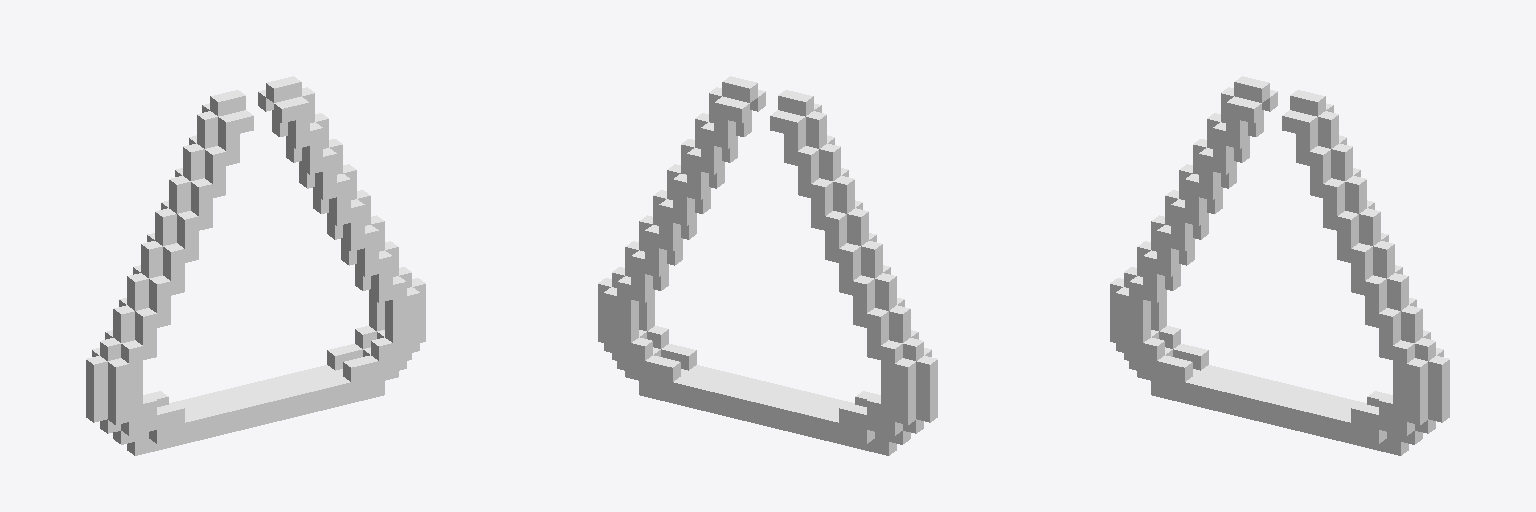
Rendered from portal-0.obj.
3 views of the same model, side by side, from view 1: azimuth 30°, elevation 25°; view 2: azimuth 150°, elevation 25°; view 3: azimuth 330°, elevation 25° (orthographic).
Visible parts, largest first — view 1: portal-0; view 2: portal-0; view 3: portal-0.
Part boxes in pixels (bbox=[...]): portal-0: bbox=[86, 76, 425, 455]; portal-0: bbox=[598, 76, 937, 455]; portal-0: bbox=[1110, 76, 1449, 455].
Bounding box in the file's own units: 24 × 23 × 3.